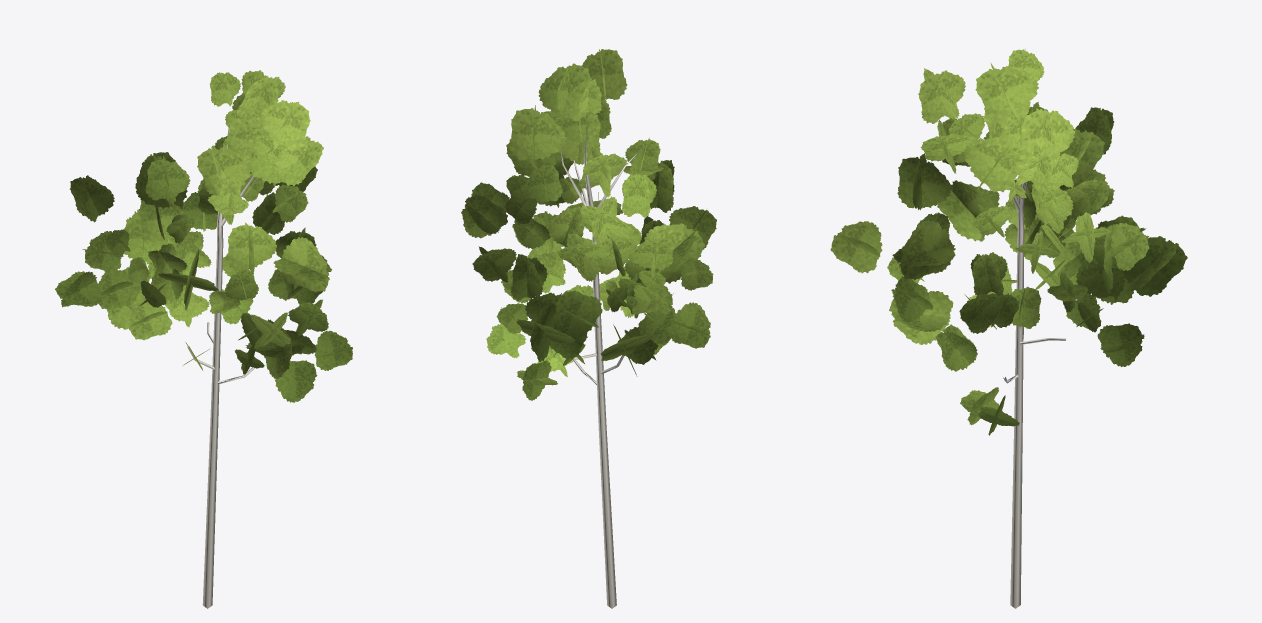
Rendered from abedul-muybajo.glb.
3 views of the same model, side by side, from view 1: azimuth 30°, elevation 25°; view 2: azimuth 150°, elevation 25°; view 3: azimuth 270°, elevation 25° (orthographic). The views are drawn at different scales.
Visible parts, largest first — view 1: abedul; view 2: abedul; view 3: abedul.
Part boxes in pixels (<box>): abedul: <box>55,70,352,608</box>; abedul: <box>461,49,716,608</box>; abedul: <box>830,48,1187,608</box>.
Bounding box in the file's own units: 8.91 × 15.72 × 10.62.
Materials: 2 (1 with a texture image).
